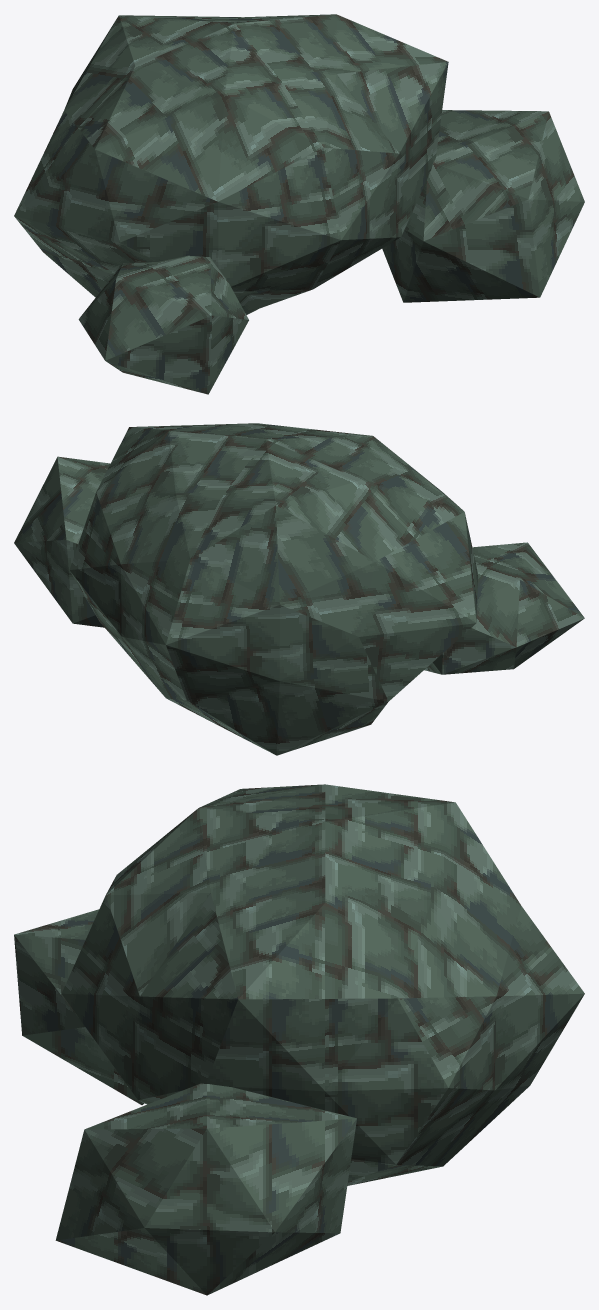
File: rock_cluster.glb
The picture shows the model from 3 angles, top to bottom: view 1: azimuth 30°, elevation 25°; view 2: azimuth 150°, elevation 25°; view 3: azimuth 270°, elevation 25°; orthographic projection. The views are drawn at different scales.
Visible parts, largest first — view 1: rock_cluster; view 2: rock_cluster; view 3: rock_cluster.
Part boxes in pixels (x1=…): rock_cluster: x1=14, y1=14, x2=584, y2=394; rock_cluster: x1=14, y1=423, x2=584, y2=755; rock_cluster: x1=14, y1=784, x2=584, y2=1295.
Bounding box in the file's own units: 2.5 × 1.38 × 1.93.
1 material, 1 textured.
